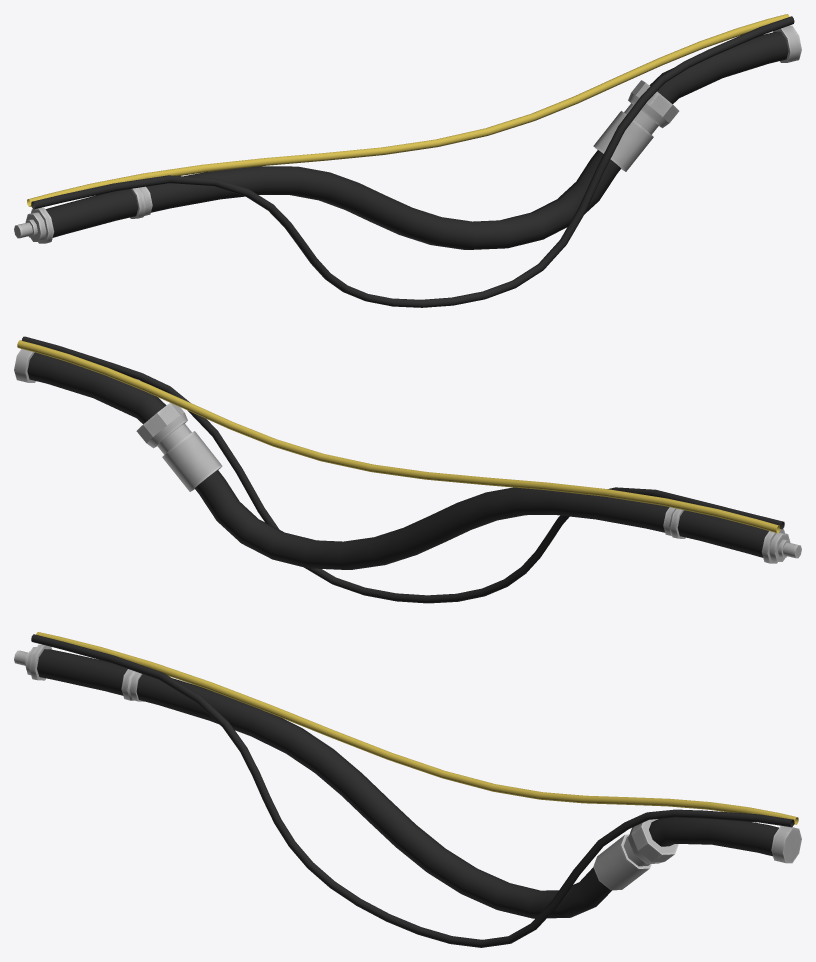
The model's file is ElectricalWires03_06.glb.
3 renders of one model, top to bottom at view 1: azimuth 30°, elevation 25°; view 2: azimuth 150°, elevation 25°; view 3: azimuth 330°, elevation 25°, orthographic.
Parts seen in each view (by area): view 1: NurbsPath_004; view 2: NurbsPath_004; view 3: NurbsPath_004.
Part boxes in pixels (x1,y1,x2,y2): NurbsPath_004: (14, 14, 801, 307); NurbsPath_004: (14, 336, 801, 603); NurbsPath_004: (14, 632, 801, 947).
Bounding box in the file's own units: 3.63 × 0.8565 × 0.2624.
1 material, 1 textured.
